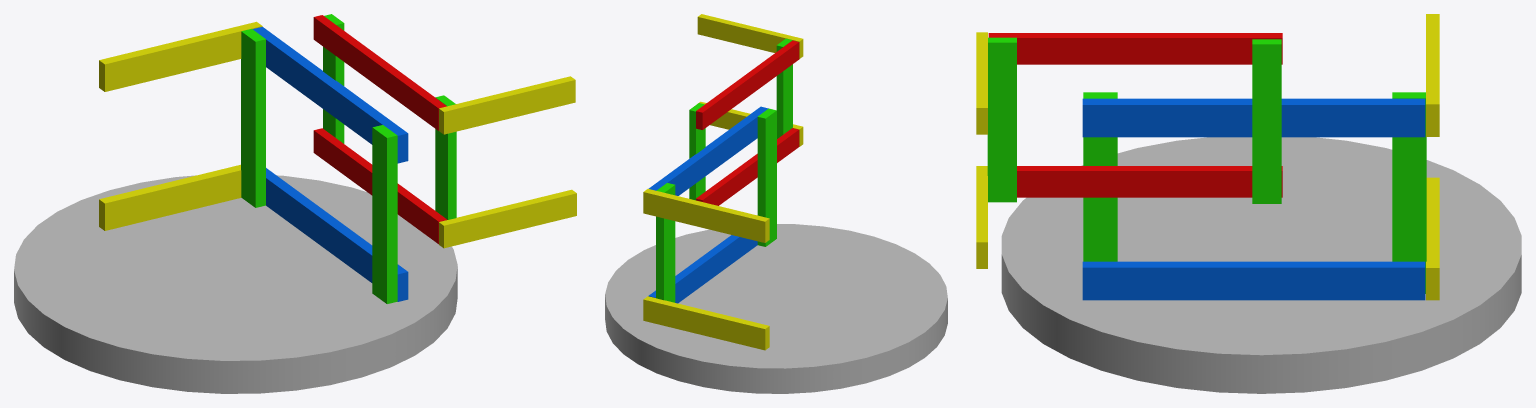
The picture shows the model from 3 angles, left to right: view 1: azimuth 30°, elevation 25°; view 2: azimuth 150°, elevation 25°; view 3: azimuth 270°, elevation 25°; orthographic projection. The views are drawn at different scales.
Parts seen in each view (by area): view 1: pCylinder1, pCube5 (×2), pCube6 (×2), pCube3 (×2), pCube2 (×2), pCube4 (×2), pCube1 (×2); view 2: pCylinder1, pCube6 (×2), pCube5 (×2), pCube2 (×2), pCube3 (×2), pCube1 (×2), pCube4 (×2); view 3: pCylinder1, pCube2 (×2), pCube5 (×2), pCube4 (×2), pCube1 (×2), pCube3 (×2), pCube6 (×2).
Boxes of the visible parts, left/top/right/bottom form: pCylinder1: left=14, top=175, right=457, bottom=393; pCube5 (×2): left=252, top=15, right=446, bottom=163; pCube6 (×2): left=99, top=21, right=575, bottom=134; pCube3 (×2): left=99, top=164, right=576, bottom=248; pCube2 (×2): left=266, top=128, right=447, bottom=301; pCube4 (×2): left=241, top=29, right=456, bottom=219; pCube1 (×2): left=323, top=14, right=397, bottom=303; pCylinder1: left=605, top=224, right=947, bottom=393; pCube6 (×2): left=643, top=14, right=803, bottom=242; pCube5 (×2): left=648, top=40, right=799, bottom=195; pCube2 (×2): left=648, top=128, right=799, bottom=303; pCube3 (×2): left=643, top=101, right=803, bottom=350; pCube1 (×2): left=689, top=103, right=776, bottom=246; pCube4 (×2): left=656, top=38, right=792, bottom=302; pCylinder1: left=1001, top=137, right=1521, bottom=393; pCube2 (×2): left=1017, top=166, right=1425, bottom=300; pCube5 (×2): left=988, top=33, right=1425, bottom=137; pCube4 (×2): left=987, top=37, right=1426, bottom=293; pCube1 (×2): left=1083, top=39, right=1281, bottom=261; pCube3 (×2): left=976, top=166, right=1439, bottom=300; pCube6 (×2): left=976, top=14, right=1439, bottom=136.
Bounding box in the file's own units: 9.52 × 5.65 × 9.28.
